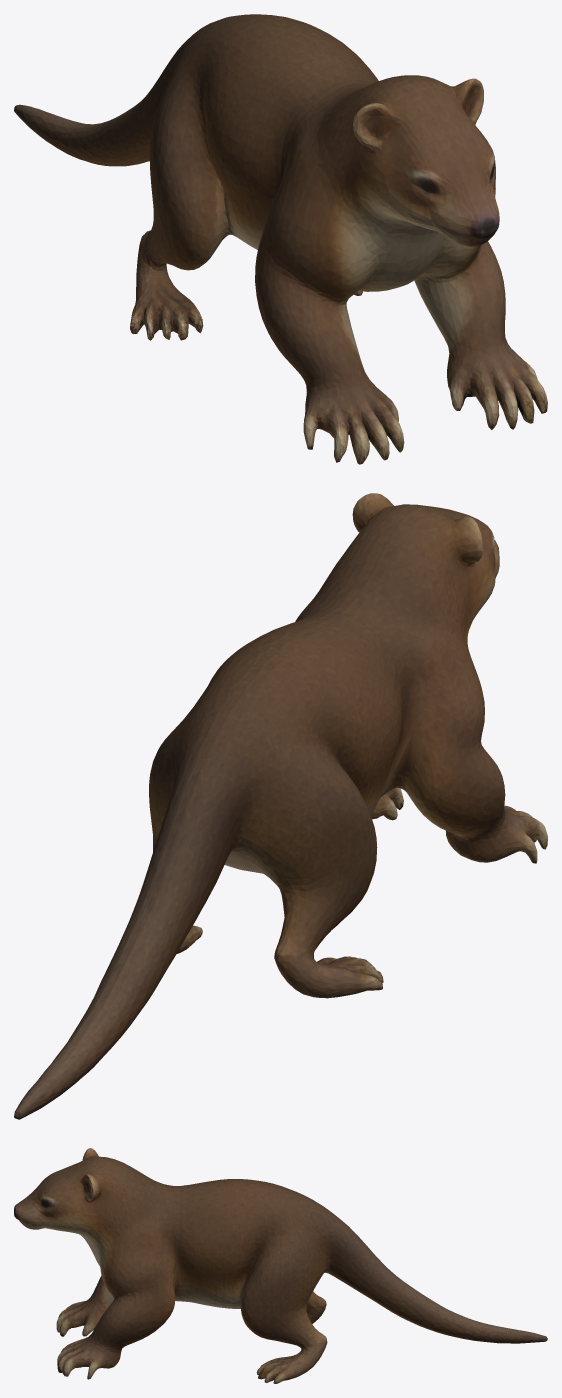
3 renders of one model, top to bottom at view 1: azimuth 30°, elevation 25°; view 2: azimuth 150°, elevation 25°; view 3: azimuth 270°, elevation 25°, orthographic. The views are drawn at different scales.
Parts seen in each view (by area): view 1: world; view 2: world; view 3: world.
Boxes of the visible parts, <box> form: world: <box>14,14,547,464</box>; world: <box>14,493,547,1119</box>; world: <box>14,1148,547,1383</box>.
Size of the model in its own units: 0.0498 by 0.0639 by 0.1619.
Materials: 2 (1 with a texture image).
